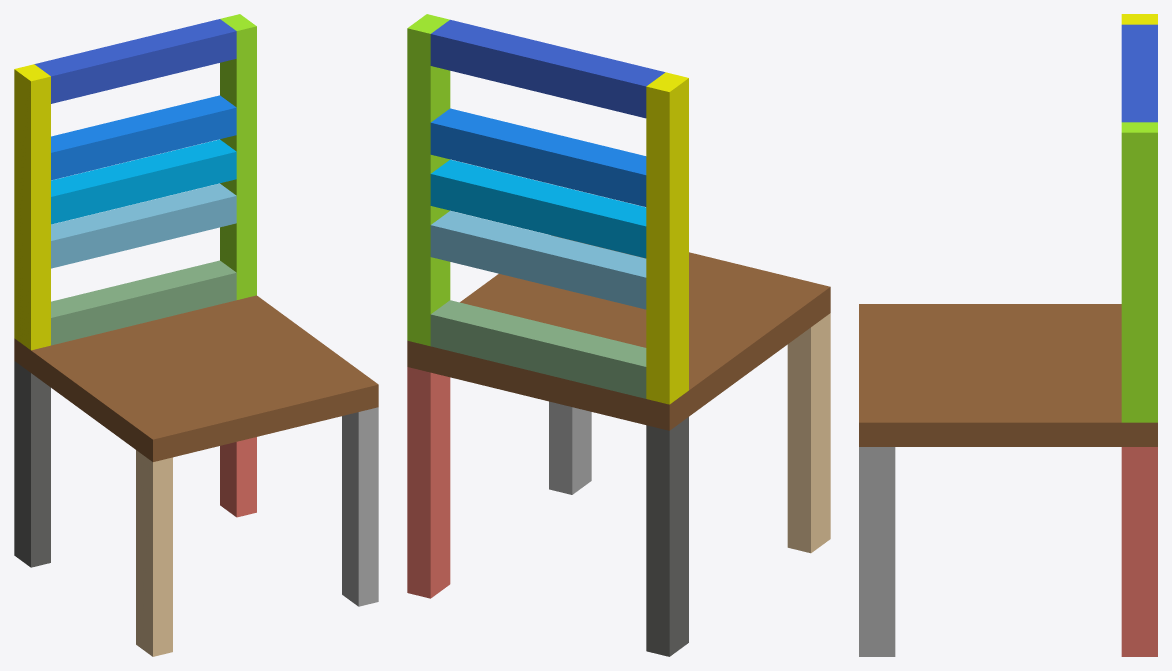
The model's file is chair2.fbx.
3 renders of one model, left to right at view 1: azimuth 30°, elevation 25°; view 2: azimuth 150°, elevation 25°; view 3: azimuth 270°, elevation 25°, orthographic. The views are drawn at different scales.
Parts seen in each view (by area): view 1: Group1, Group7, Group10, Group9, Group5, Group2, Group12, Group11, Group6, Group4, Group3, Group8; view 2: Group1, Group7, Group10, Group2, Group5, Group9, Group12, Group11, Group8, Group3, Group6, Group4; view 3: Group1, Group11, Group4, Group8, Group10.
Boxes of the visible parts, box(x1,y1,x2,y2) form: Group1: box(14, 295, 378, 461); Group7: box(14, 64, 50, 350); Group10: box(34, 19, 236, 103); Group9: box(51, 139, 236, 224); Group5: box(51, 260, 236, 345); Group2: box(51, 183, 236, 268); Group12: box(51, 95, 236, 180); Group11: box(220, 14, 256, 299); Group6: box(136, 450, 172, 656); Group4: box(342, 407, 378, 606); Group3: box(14, 361, 50, 567); Group8: box(220, 437, 256, 517); Group1: box(407, 235, 830, 430); Group7: box(646, 72, 688, 404); Group10: box(430, 19, 665, 118); Group2: box(430, 211, 646, 309); Group5: box(430, 300, 646, 398); Group9: box(430, 159, 646, 258); Group12: box(430, 108, 646, 206); Group11: box(407, 14, 450, 346); Group8: box(407, 367, 450, 598); Group3: box(646, 417, 688, 656); Group6: box(787, 313, 830, 553); Group4: box(549, 401, 591, 494); Group1: box(859, 304, 1157, 446); Group11: box(1121, 122, 1157, 422); Group4: box(859, 447, 895, 656); Group8: box(1121, 447, 1157, 656); Group10: box(1121, 24, 1157, 122).
Size of the model in its own units: 115 by 236 by 122.
